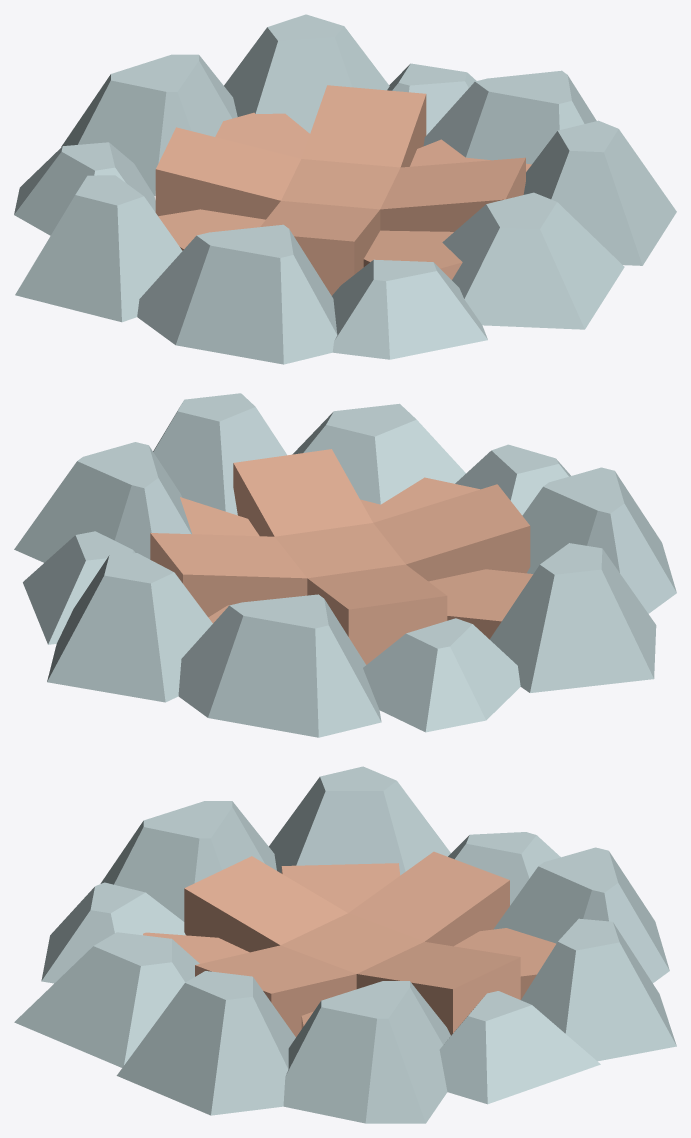
File: campfire.fbx
The picture shows the model from 3 angles, top to bottom: view 1: azimuth 30°, elevation 25°; view 2: azimuth 150°, elevation 25°; view 3: azimuth 270°, elevation 25°; orthographic projection. The views are drawn at different scales.
Parts seen in each view (by area): view 1: campfire_logs; view 2: campfire_logs; view 3: campfire_logs.
Boxes of the visible parts, x1,y1,x2,y2 form: campfire_logs: (14,14,676,364); campfire_logs: (14,393,676,737); campfire_logs: (14,766,676,1123).
Bounding box in the file's own units: 54.08 × 8.69 × 51.55.
